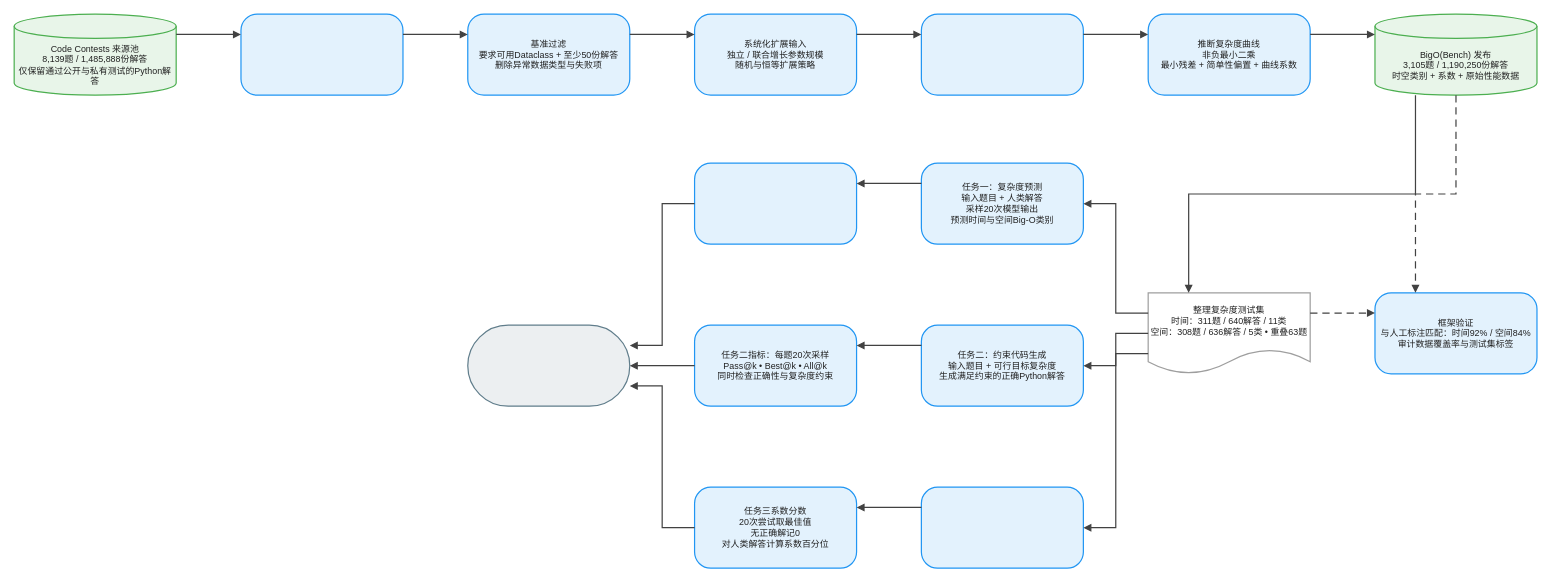
Some shapes in this 1552 by 583 pixel diagram are drawn without their labels. Here are the shapes that lost their labels. From the top down, the centre of each, then its label:
At (x=321, y=54): "题目专用输入 Dataclass Llama 3.1 405B 生成解析器 多轮回译覆盖82%的题目".
At (x=1002, y=54): "隔离动态性能分析 Bubblewrap 沙箱 cProfile运行时间 + tracemalloc内存".
At (x=775, y=203): "任务一：20次采样无偏估计 Pass@k • Best@k • All@k 时间与空间类别准确率".
At (x=548, y=365): "汇报三项并行评测 预测准确率 • 生成指标 系数百分位排序".
At (x=1002, y=527): "任务三：系数排序 生成20个候选解答 在同一Big-O类取最佳正确系数".
